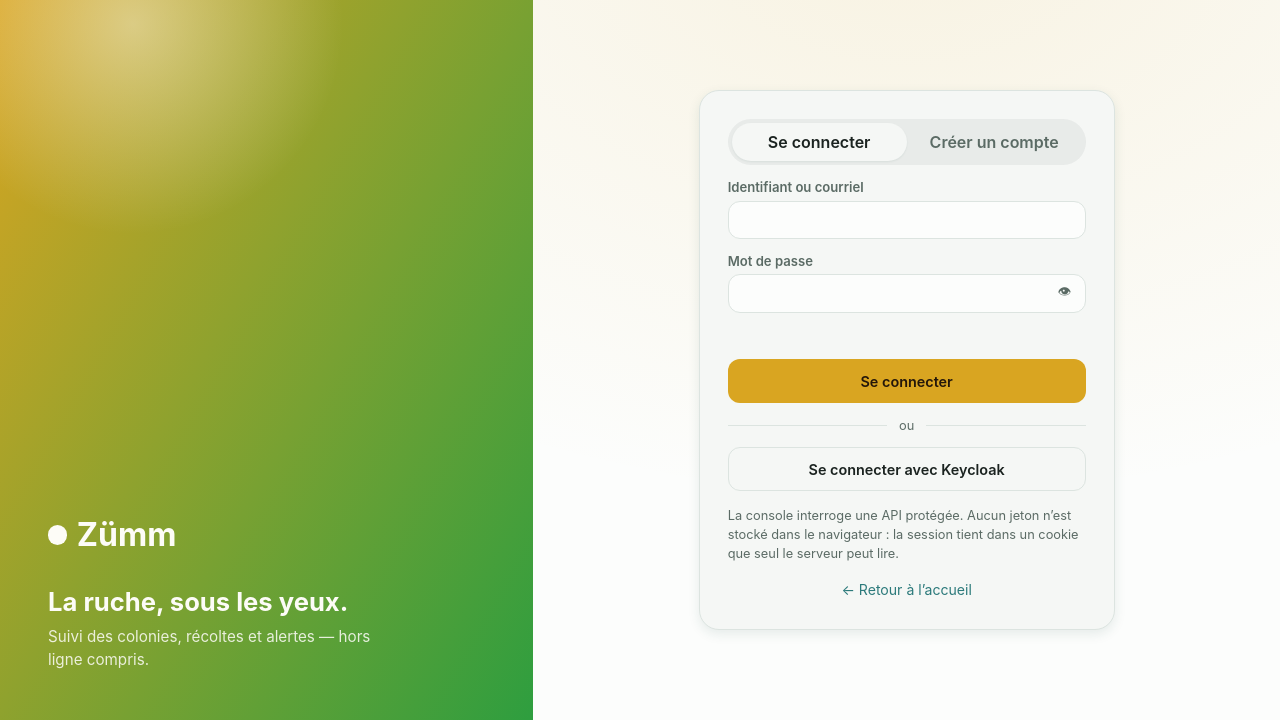
Scenario: ossature de la console › ramène de l’écran d’entrée vers l’accueil
Click the button "← Retour à l’accueil" at [907, 589], box [835, 578, 978, 601]
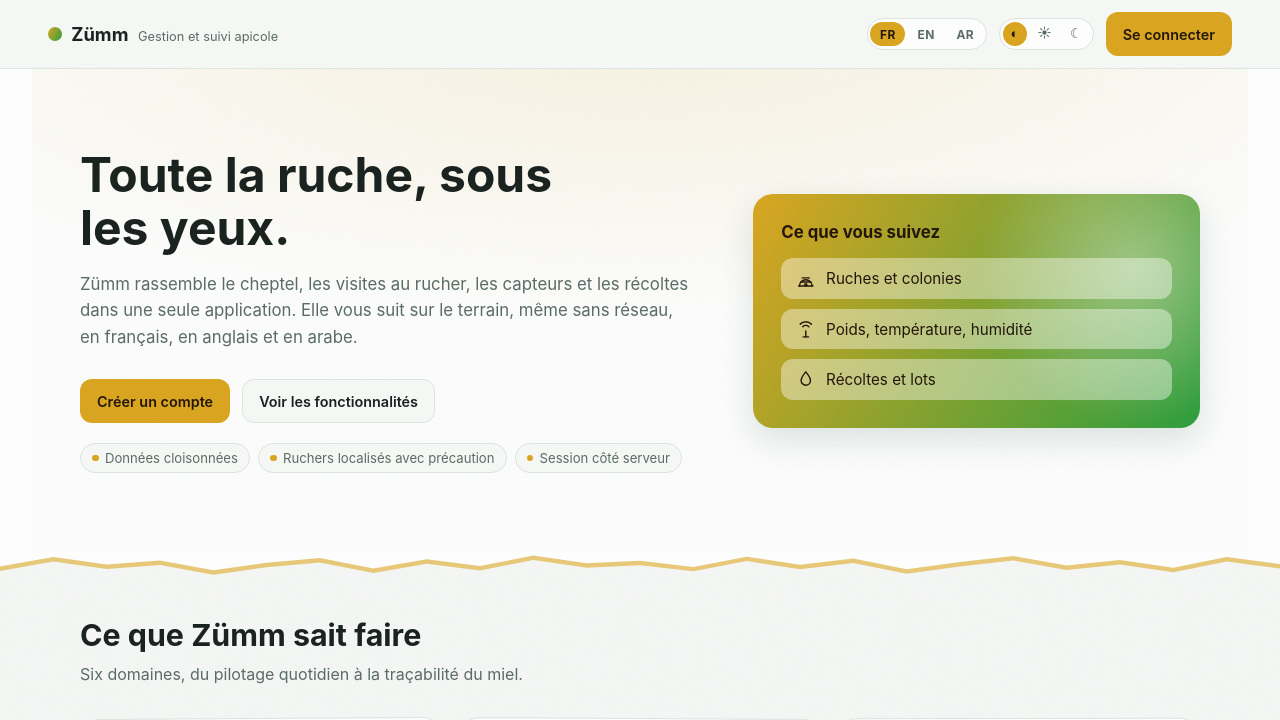
Expected: the heading "Toute la ruche, sous les yeux." is shown, [80, 149, 598, 255]
